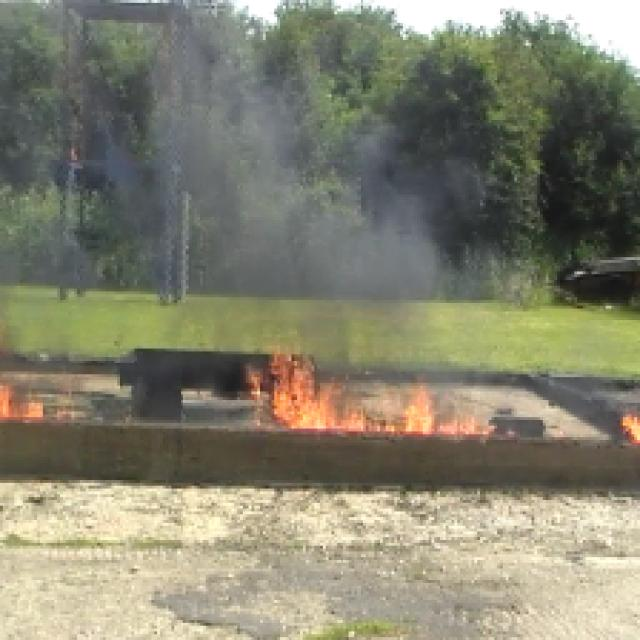fire: (244, 356, 490, 435)
smoke: (143, 48, 485, 346)
